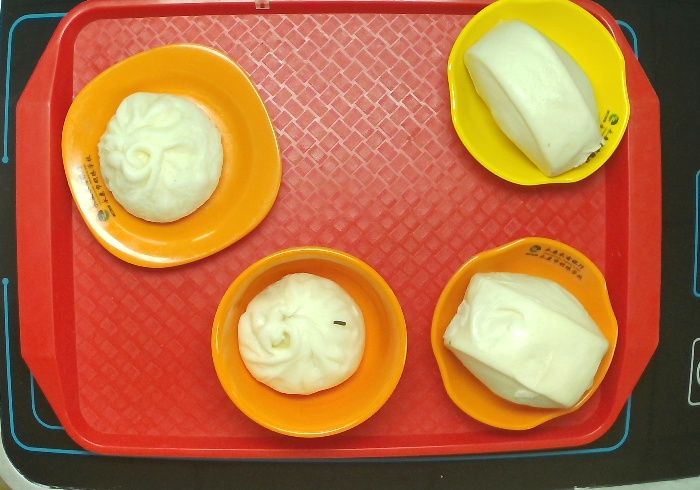YKMZ-Ju_Se_Fang_Die: (60, 42, 281, 268)
